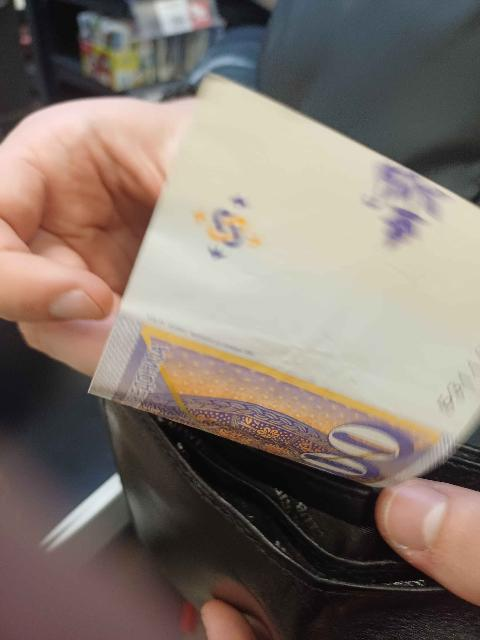note: (92, 77, 479, 486)
